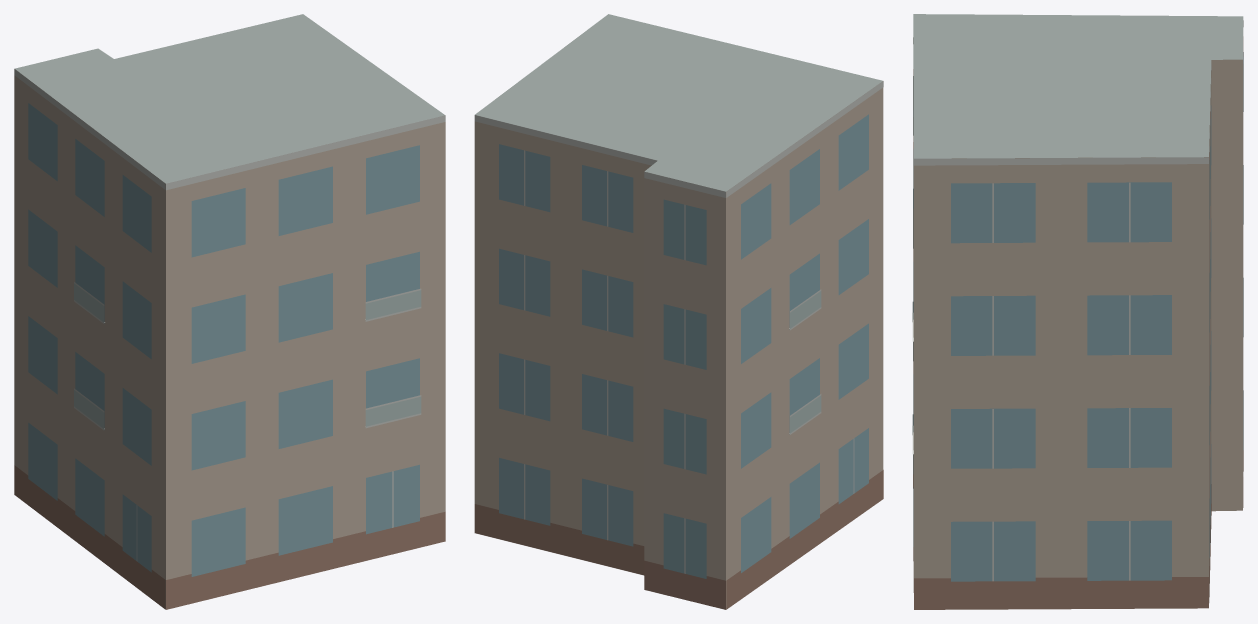
File: survey-upis-32605415.glb
3 views of the same model, side by side, from view 1: azimuth 30°, elevation 25°; view 2: azimuth 150°, elevation 25°; view 3: azimuth 270°, elevation 25° (orthographic). The views are drawn at different scales.
Visible parts, largest first — view 1: survey-upis-32605415.tmp; view 2: survey-upis-32605415.tmp; view 3: survey-upis-32605415.tmp.
Boxes of the visible parts, left/top/right/bottom form: survey-upis-32605415.tmp: left=14, top=14, right=445, bottom=609; survey-upis-32605415.tmp: left=474, top=14, right=883, bottom=609; survey-upis-32605415.tmp: left=912, top=14, right=1243, bottom=609.
Bounding box in the file's own units: 10.91 × 15.85 × 10.54.
